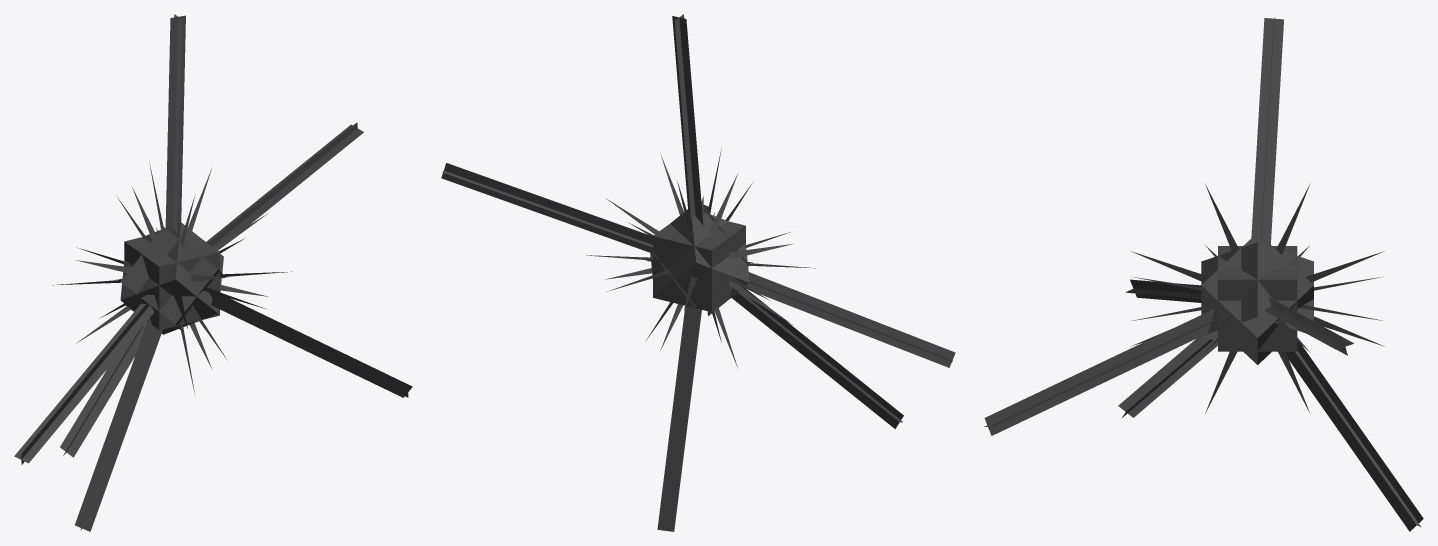
File: explosion.glb
The picture shows the model from 3 angles, left to right: view 1: azimuth 30°, elevation 25°; view 2: azimuth 150°, elevation 25°; view 3: azimuth 270°, elevation 25°; orthographic projection. The views are drawn at different scales.
Visible parts, largest first — view 1: group_305; view 2: group_305; view 3: group_305.
Boxes of the visible parts, x1=… form: group_305: x1=14, y1=14, x2=412, y2=531; group_305: x1=441, y1=14, x2=955, y2=531; group_305: x1=984, y1=17, x2=1423, y2=531.
Bounding box in the file's own units: 7359 × 7651 × 5659.
1 material, 1 textured.
